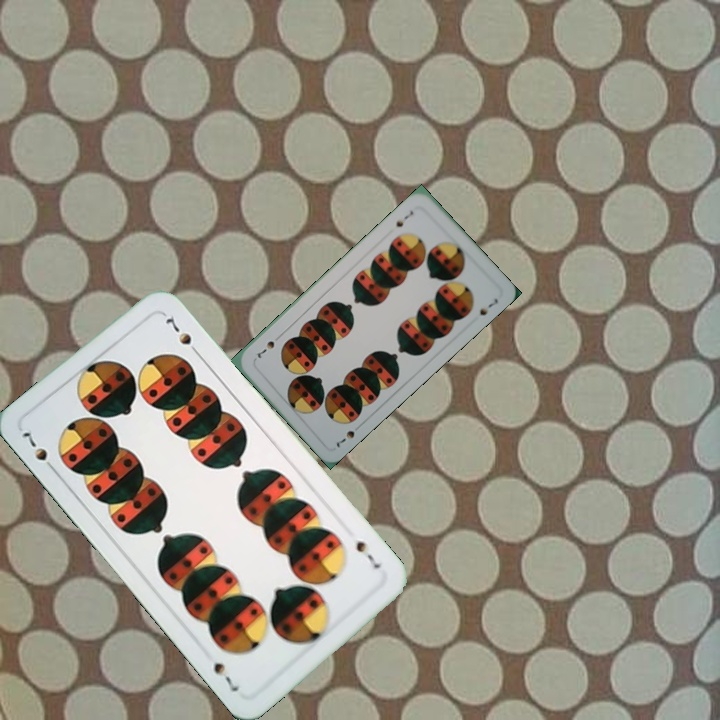S7: (19, 428, 60, 476), (352, 536, 384, 572), (332, 420, 364, 451), (392, 207, 416, 230)
